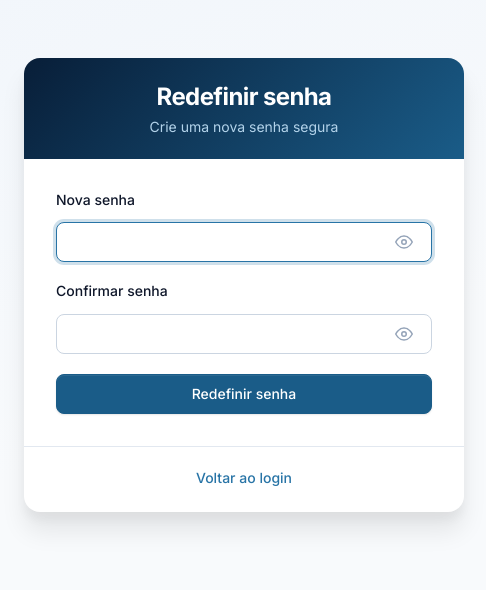
ResetPasswordPage › shows success state after successful reset
The width and height of the screenshot is (486, 590).
Type "Nova@Senha1" into the password field labelled "Nova senha" at x=244, y=242, box [56,222,432,262]
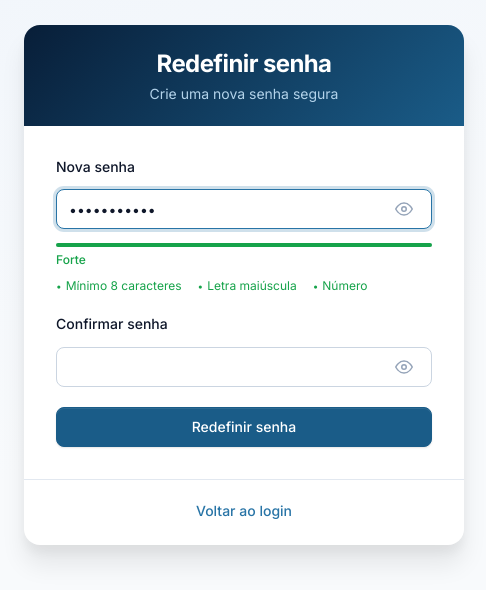
Click the button "Redefinir senha" at x=244, y=427, box [56,407,432,447]
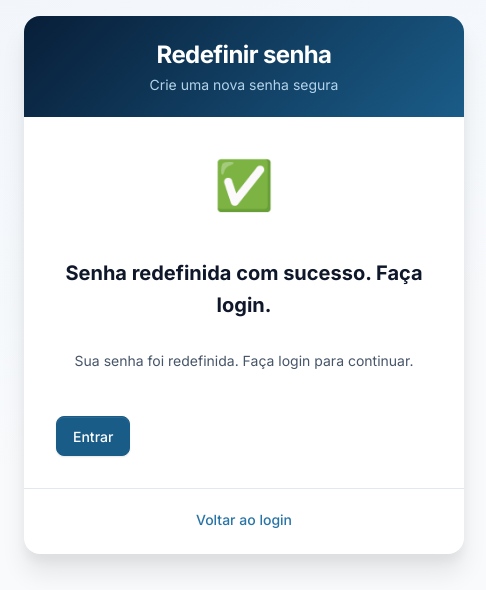
Check: the button "Entrar" is shown, box [56,416,130,456]
